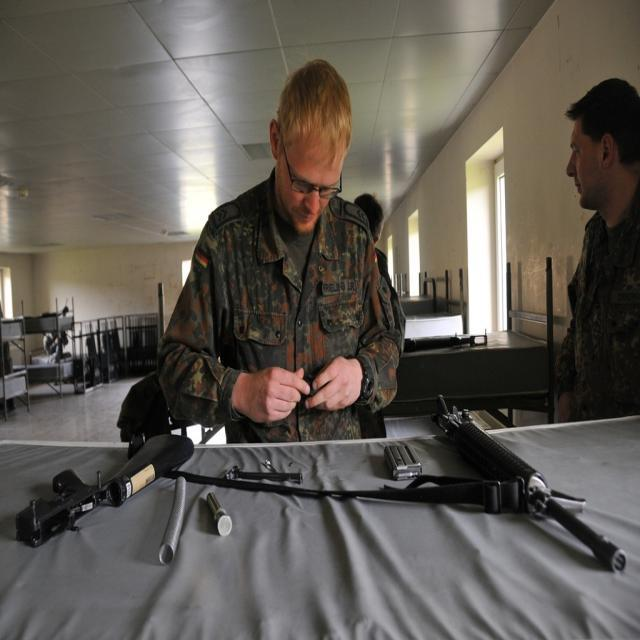weapon: (434, 394, 628, 572), (12, 431, 194, 546)
